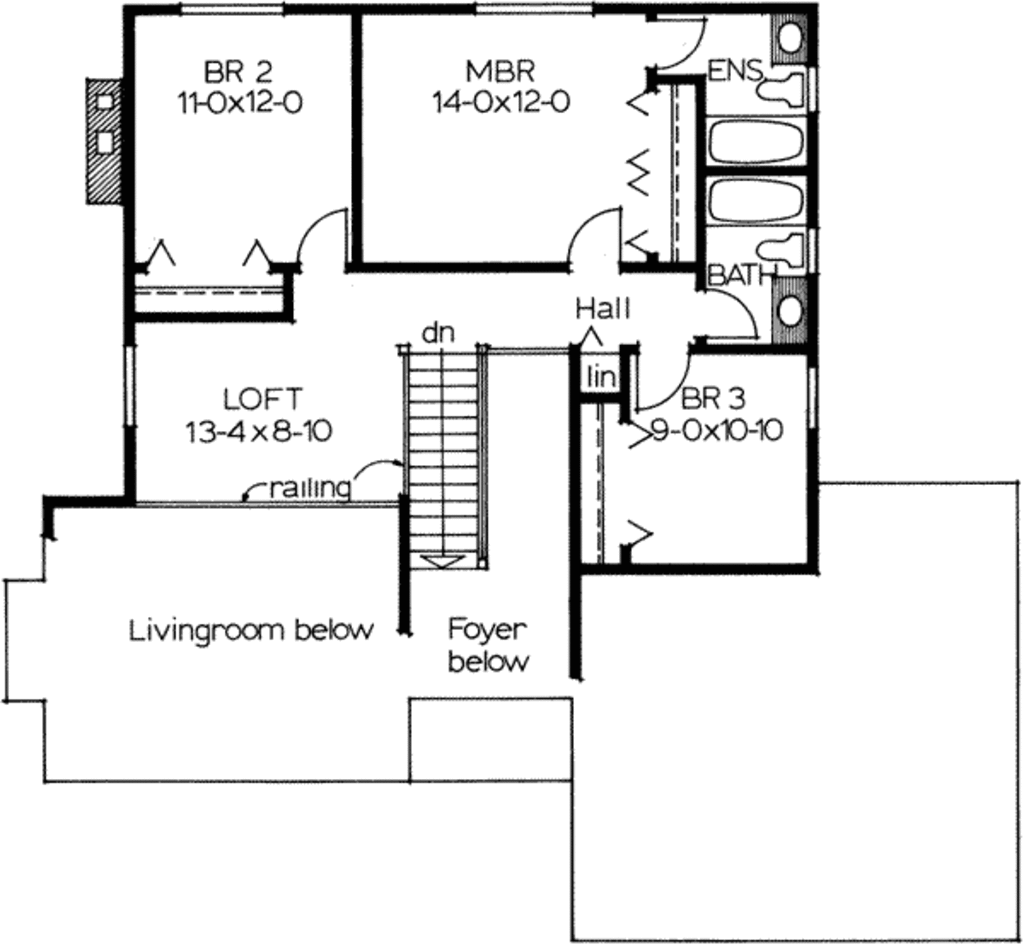door: (562, 205, 628, 275), (289, 199, 352, 270), (649, 9, 715, 75), (692, 288, 755, 356), (633, 346, 695, 415)
large_sink: (746, 66, 813, 112), (741, 233, 805, 276)
small_sink: (772, 280, 818, 349)
stairs: (398, 340, 509, 583)
tub: (702, 110, 808, 175), (698, 175, 819, 228)
window: (478, 2, 601, 18), (805, 365, 825, 435), (179, 3, 285, 16)
